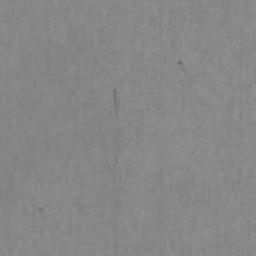Inclusion: (113, 88, 119, 113)
